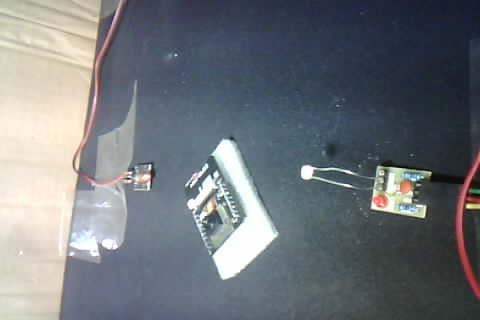esp32: (179, 142, 266, 272)
